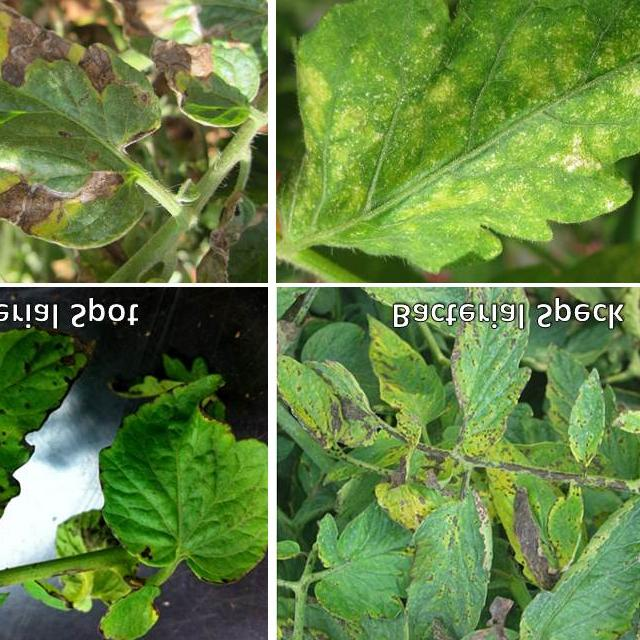Tomato Early blight leaf: (89, 332, 268, 596), (0, 0, 178, 255), (0, 306, 99, 584), (293, 500, 437, 633), (384, 474, 500, 638), (441, 290, 525, 471), (364, 296, 447, 463), (288, 338, 383, 451), (537, 474, 590, 581), (610, 290, 640, 457)
